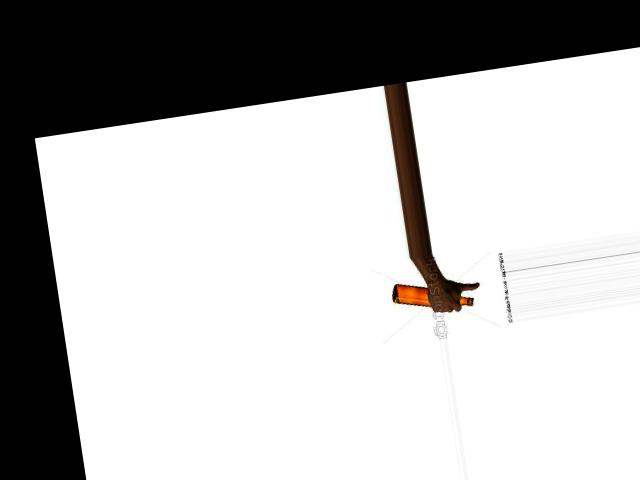beer: (390, 272, 473, 316)
